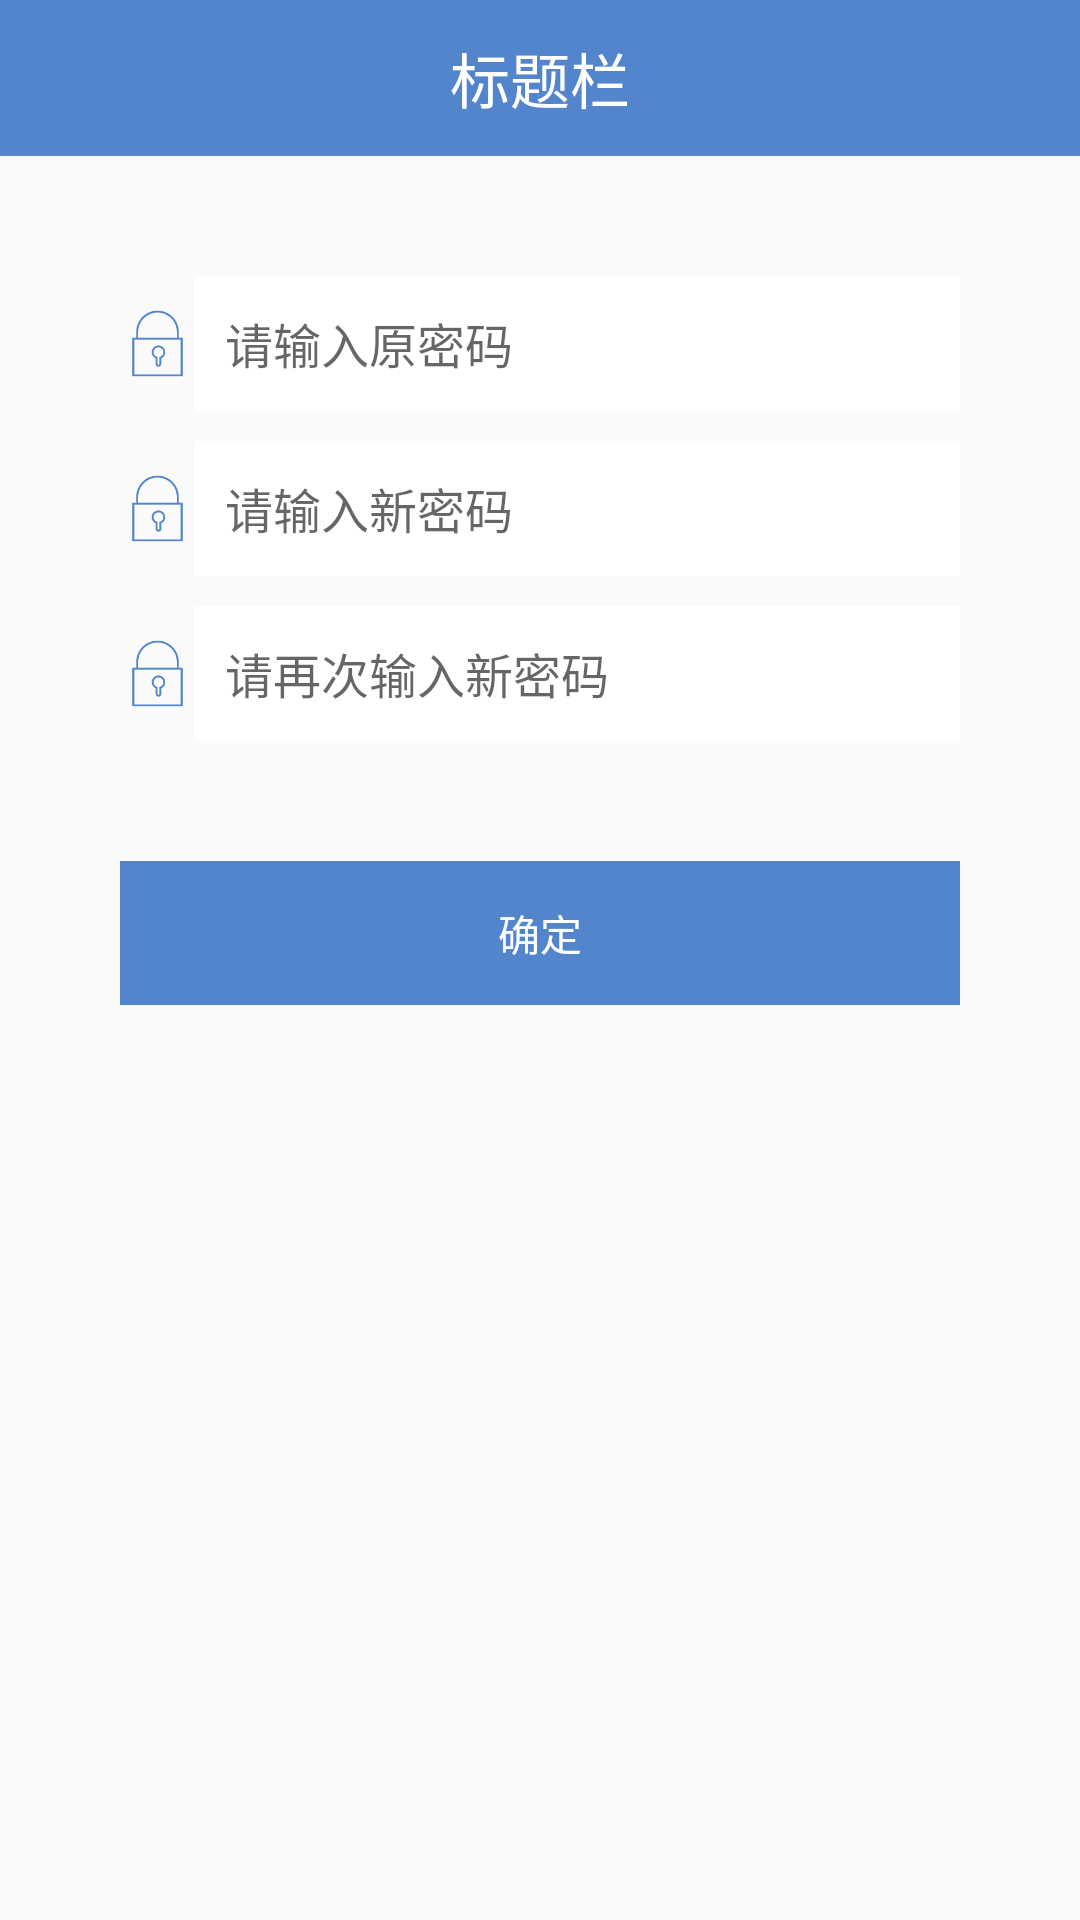

Icon click points for this 1080 x 1920 phone screenshot, format (x,y):
lock: (157,343), (157,508), (157,673)
